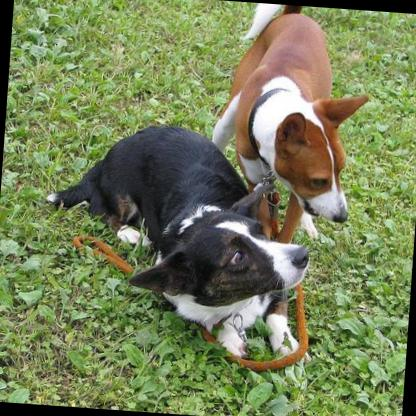basenji: (33, 112, 322, 369), (205, 0, 370, 248)
